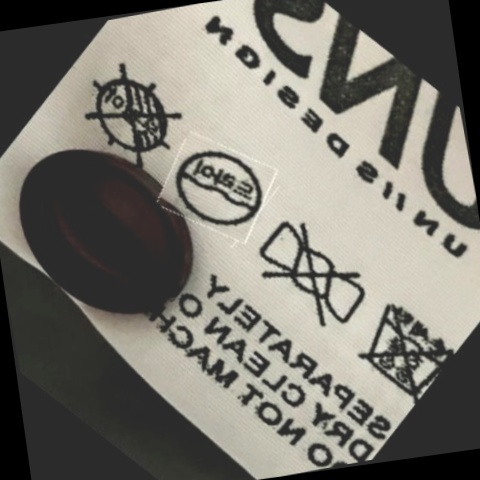DN_dry: (78, 60, 188, 172)
DN_wring: (250, 215, 374, 339)
dry_clean: (168, 137, 268, 240)
hand_wash: (350, 289, 454, 403)
